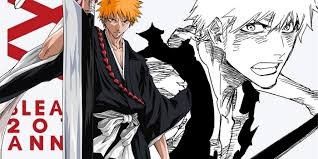Ichigo: (200, 2, 309, 87), (98, 1, 137, 39)
